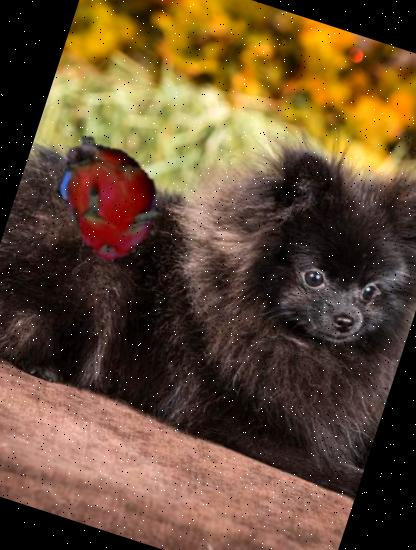Pitahaya: (23, 112, 191, 280)
